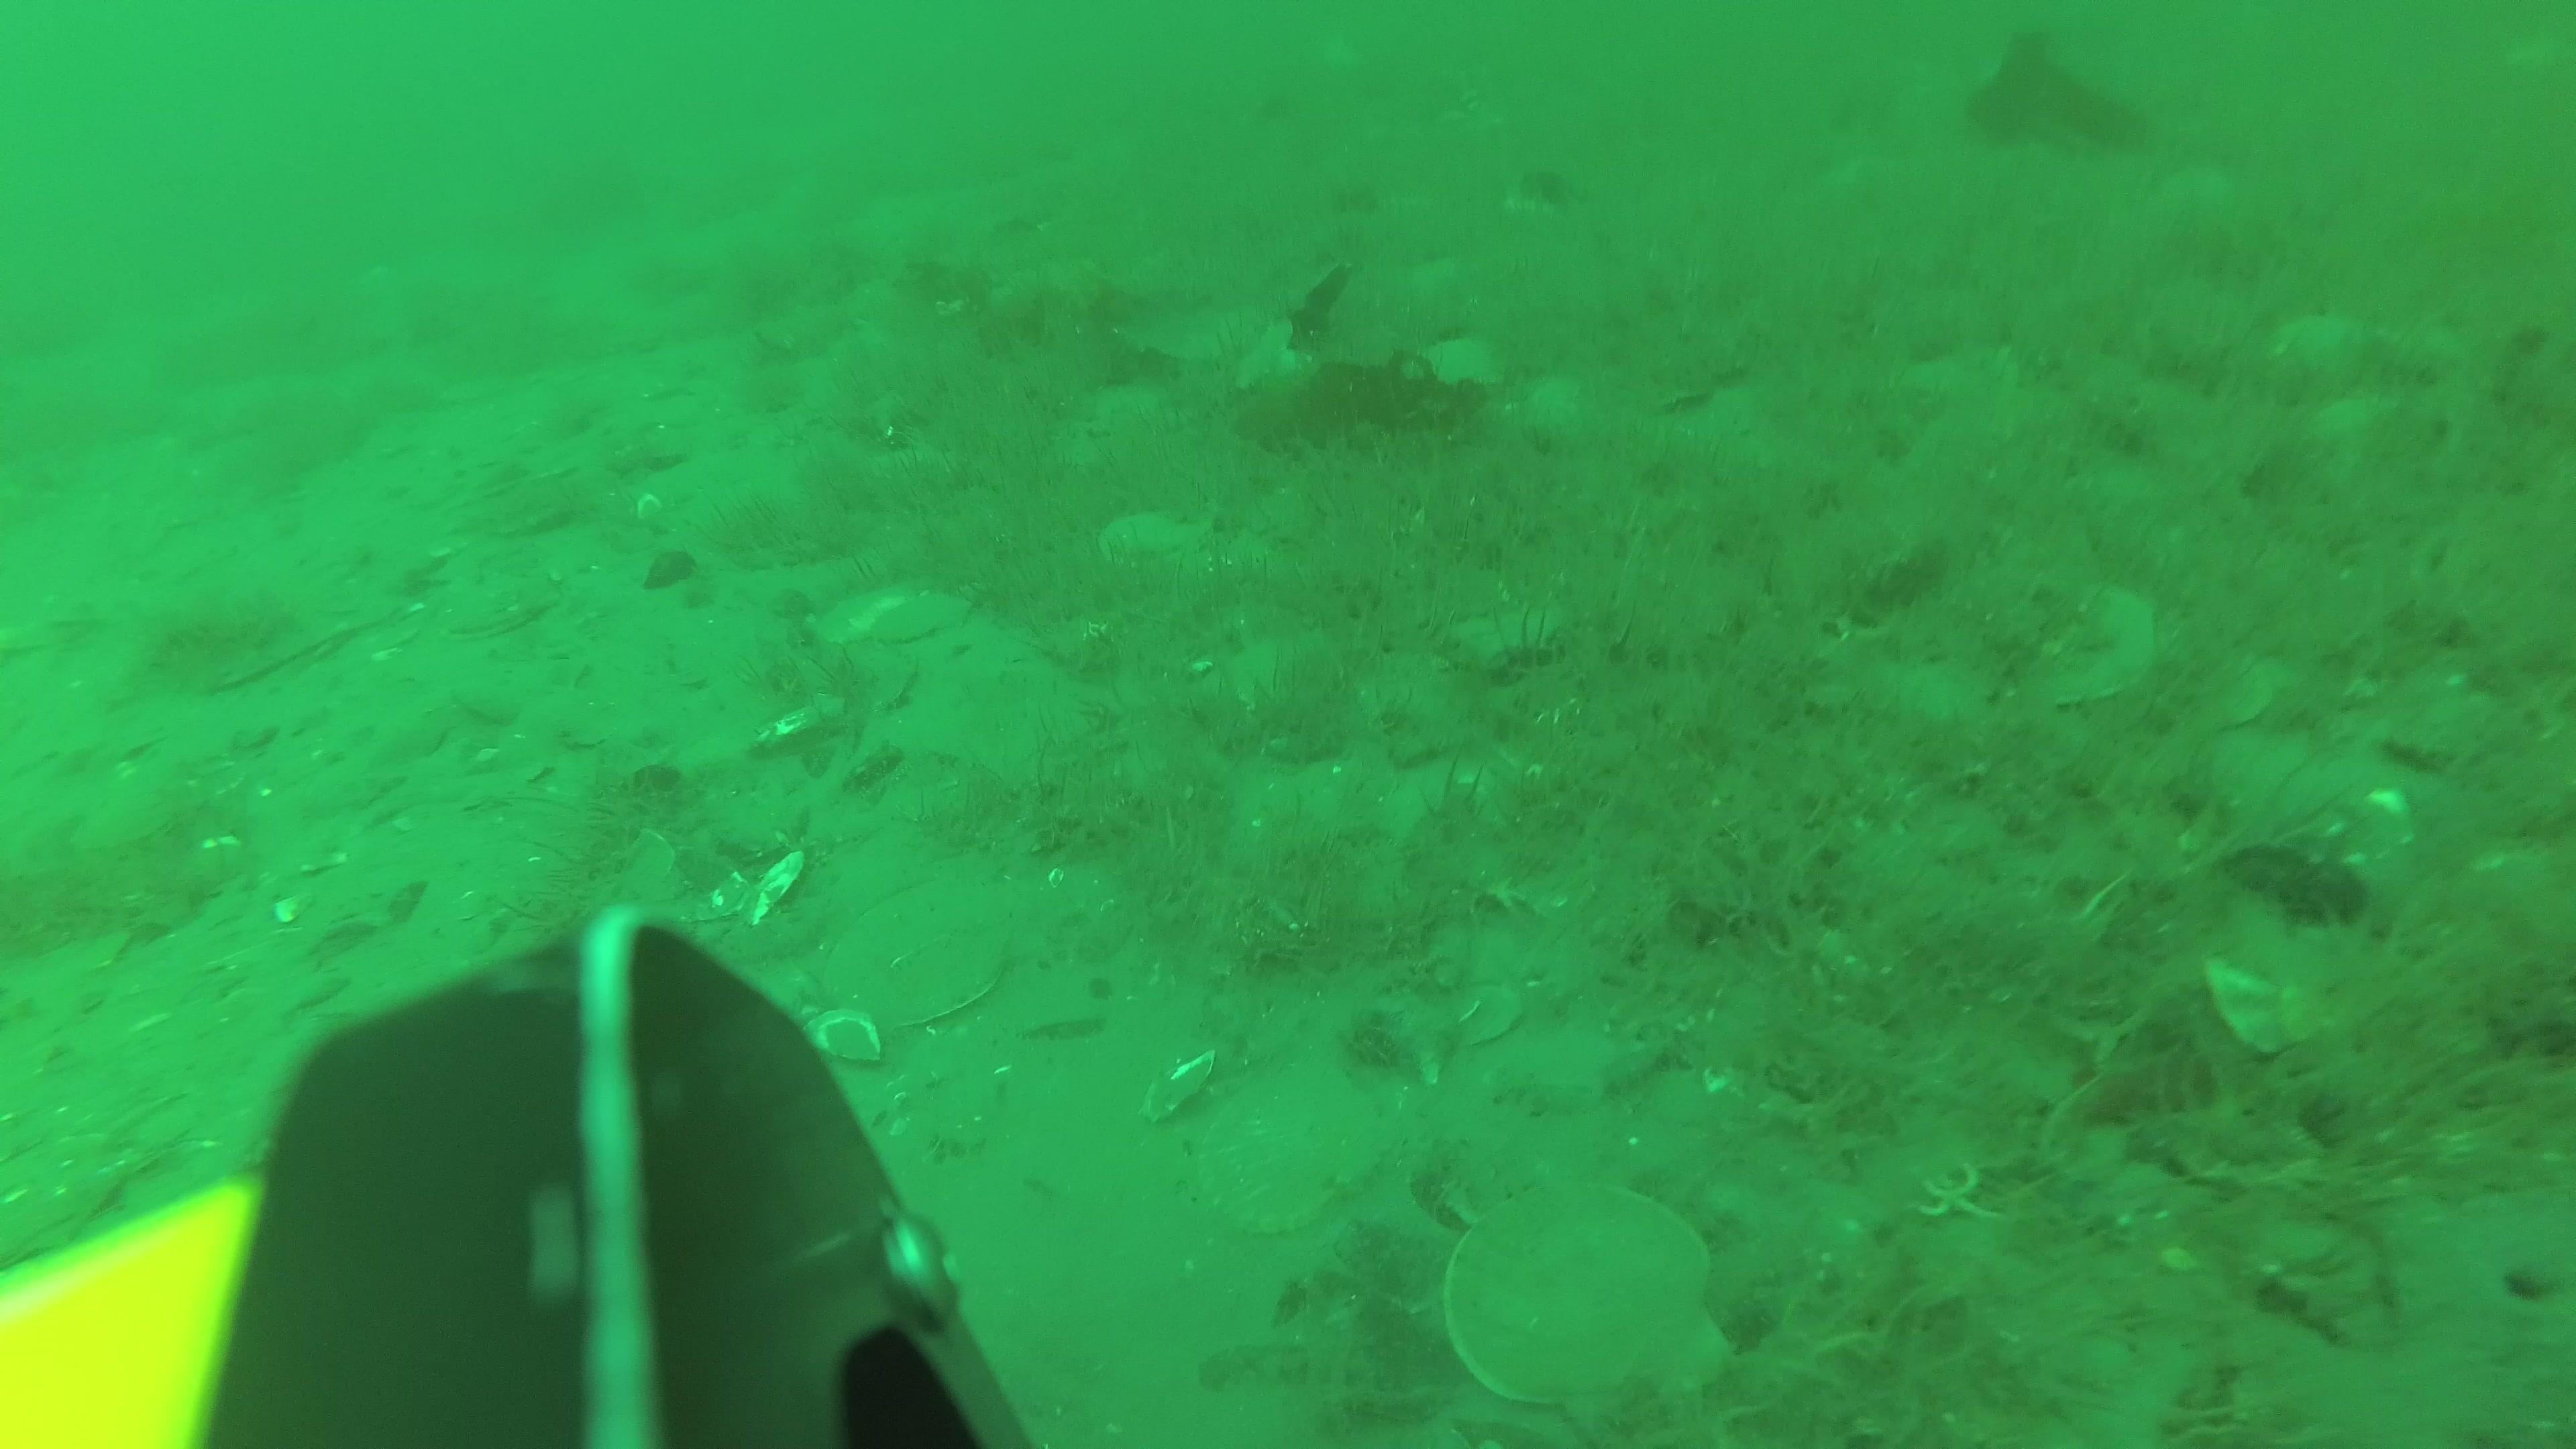scallop: (1451, 1171, 1721, 1437), (1198, 1065, 1396, 1237), (833, 885, 1021, 1030), (2022, 591, 2167, 704), (819, 580, 971, 649), (448, 577, 561, 640), (1104, 508, 1207, 568), (1410, 338, 1511, 391)
